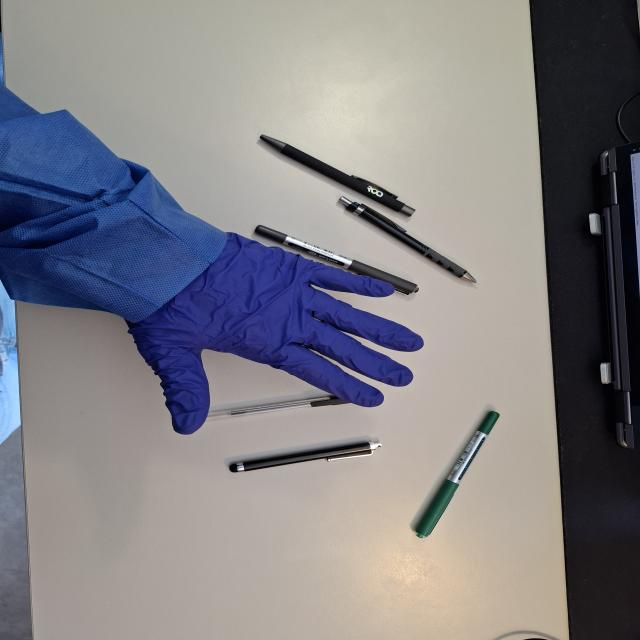glove_on: (118, 230, 428, 438)
